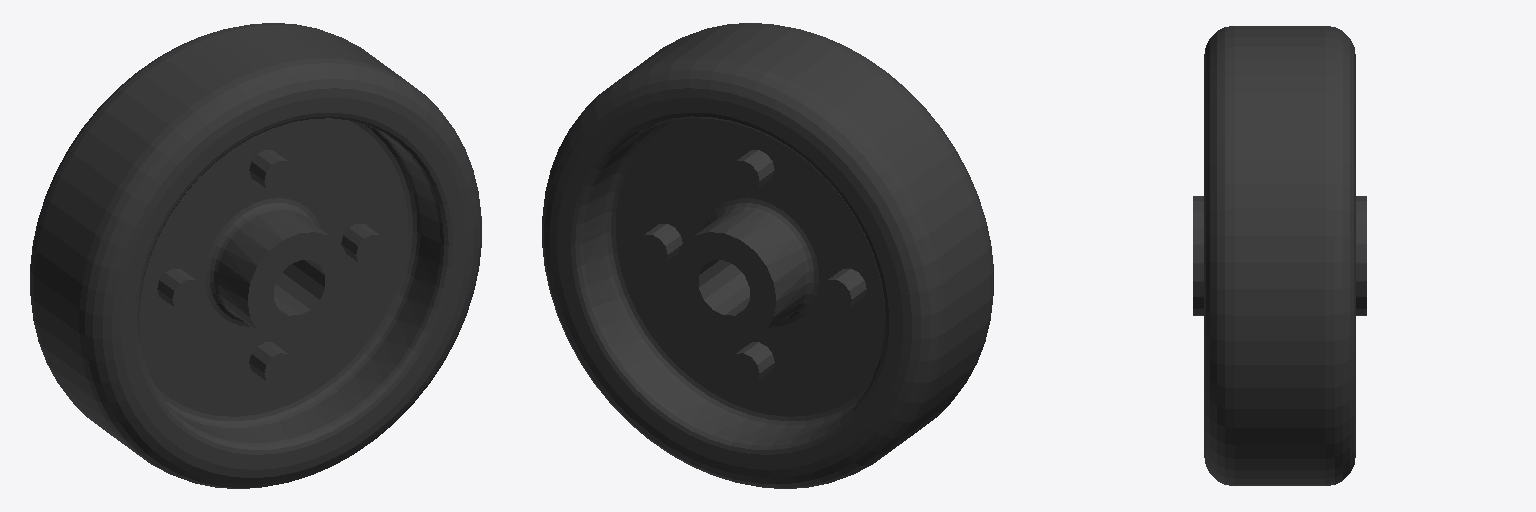
File: caster_wheel.obj
The picture shows the model from 3 angles: view 1: azimuth 30°, elevation 25°; view 2: azimuth 150°, elevation 25°; view 3: azimuth 270°, elevation 25°; orthographic projection.
Parts seen in each view (by area): view 1: caster_wheel_caster wheel; view 2: caster_wheel_caster wheel; view 3: caster_wheel_caster wheel.
Part boxes in pixels (x1,y1,x2,y2): caster_wheel_caster wheel: (30, 23, 481, 488); caster_wheel_caster wheel: (542, 23, 993, 488); caster_wheel_caster wheel: (1193, 26, 1366, 485).
Size of the model in its own units: 0.1517 by 0.152 by 0.0576.